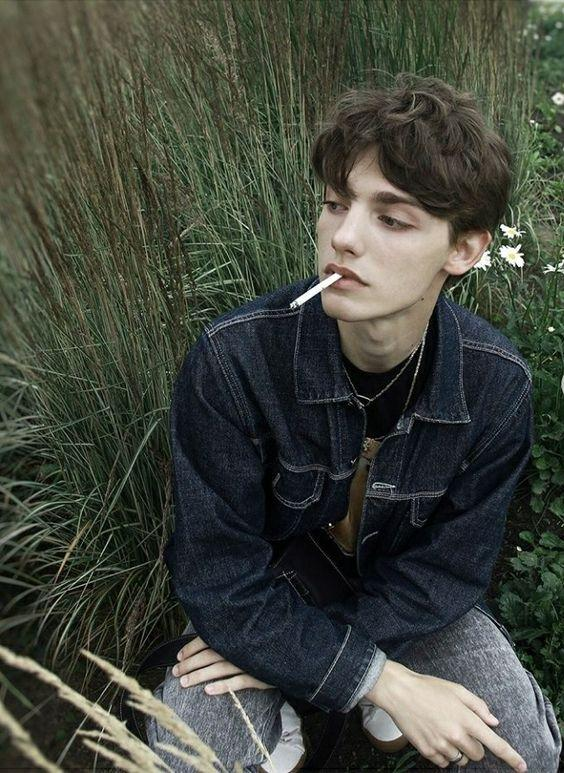cigarette: (290, 273, 344, 309)
